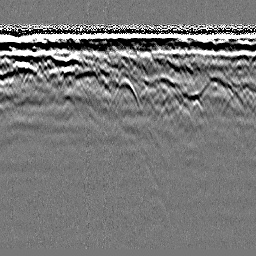cavity: (112, 76, 140, 110)
